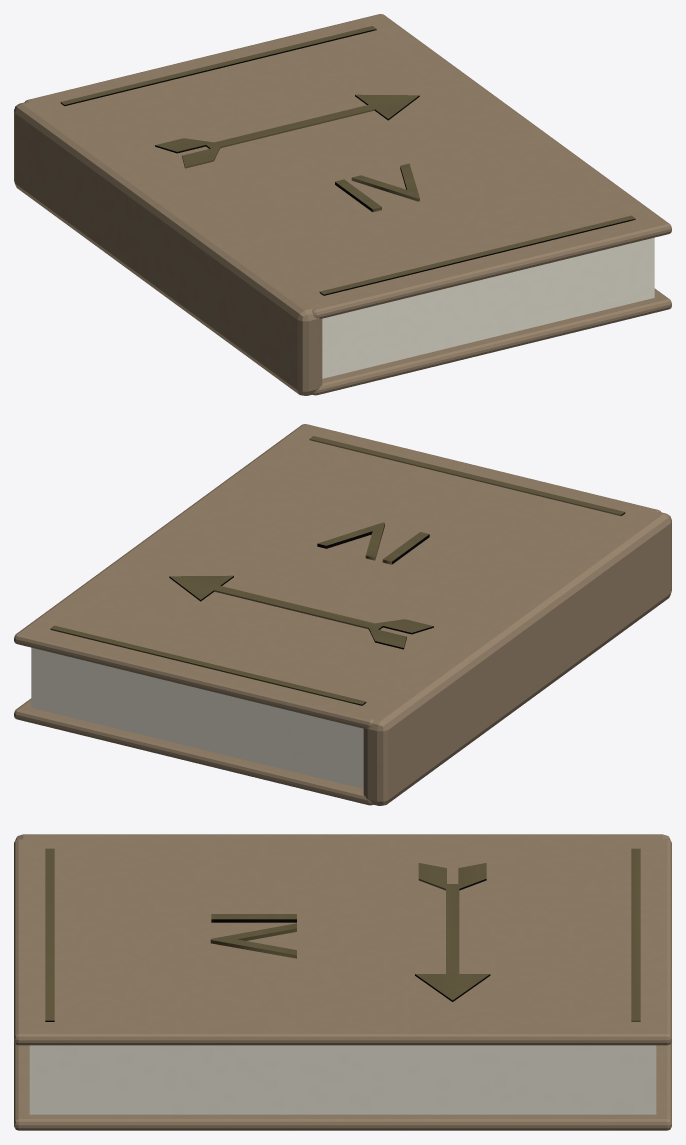
The model's file is FL_BookArchery4.fbx.
3 renders of one model, top to bottom at view 1: azimuth 30°, elevation 25°; view 2: azimuth 150°, elevation 25°; view 3: azimuth 270°, elevation 25°, orthographic. The views are drawn at different scales.
Parts seen in each view (by area): view 1: FL_BookArchery4; view 2: FL_BookArchery4; view 3: FL_BookArchery4.
Boxes of the visible parts, box(x1,y1,x2,y2) form: FL_BookArchery4: box(14, 14, 671, 395); FL_BookArchery4: box(14, 424, 671, 805); FL_BookArchery4: box(14, 834, 671, 1130).
Bounding box in the file's own units: 0.0129 × 0.00295 × 0.0175.
